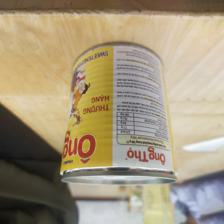Ong_tho: (57, 42, 178, 185)
